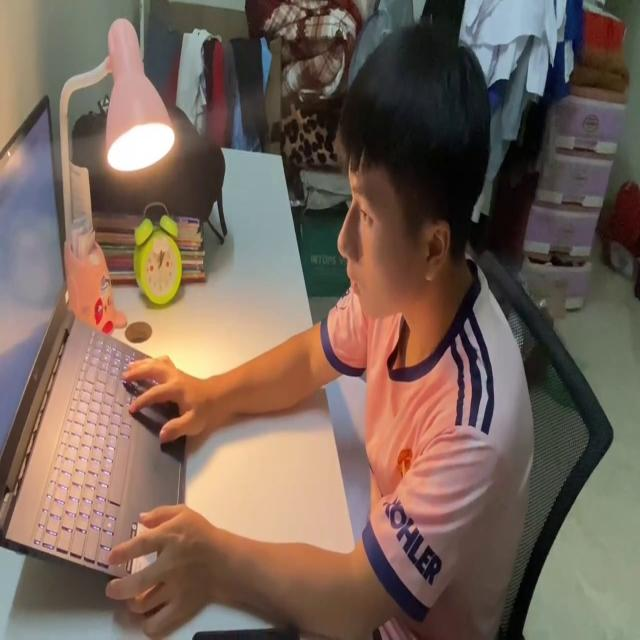book: (321, 362, 374, 562)
laptop: (0, 91, 192, 613)
phone: (194, 621, 298, 640)
student: (110, 24, 534, 640)
